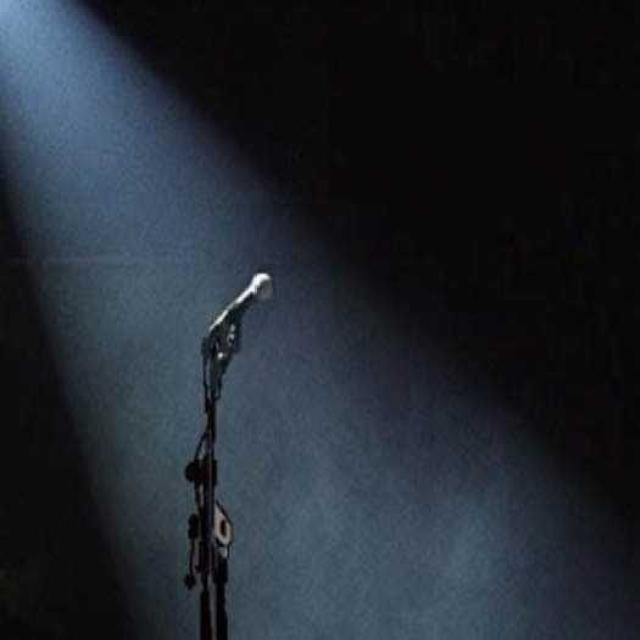microphone: (207, 270, 275, 340)
